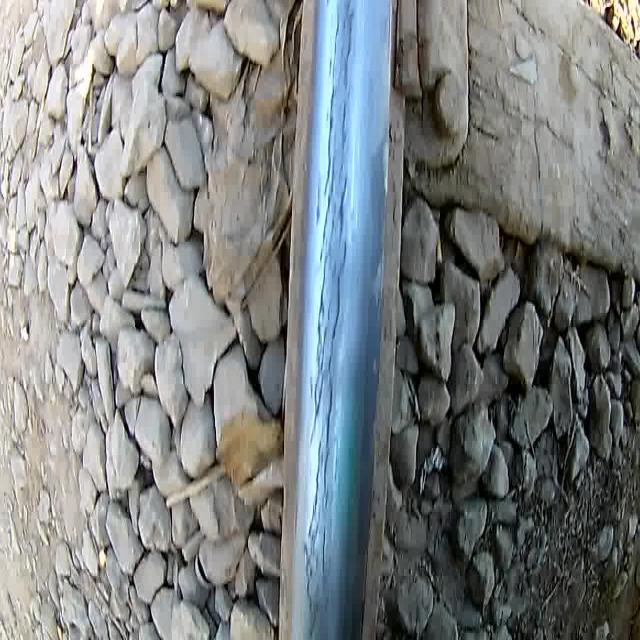Cracks: (297, 0, 359, 640)
